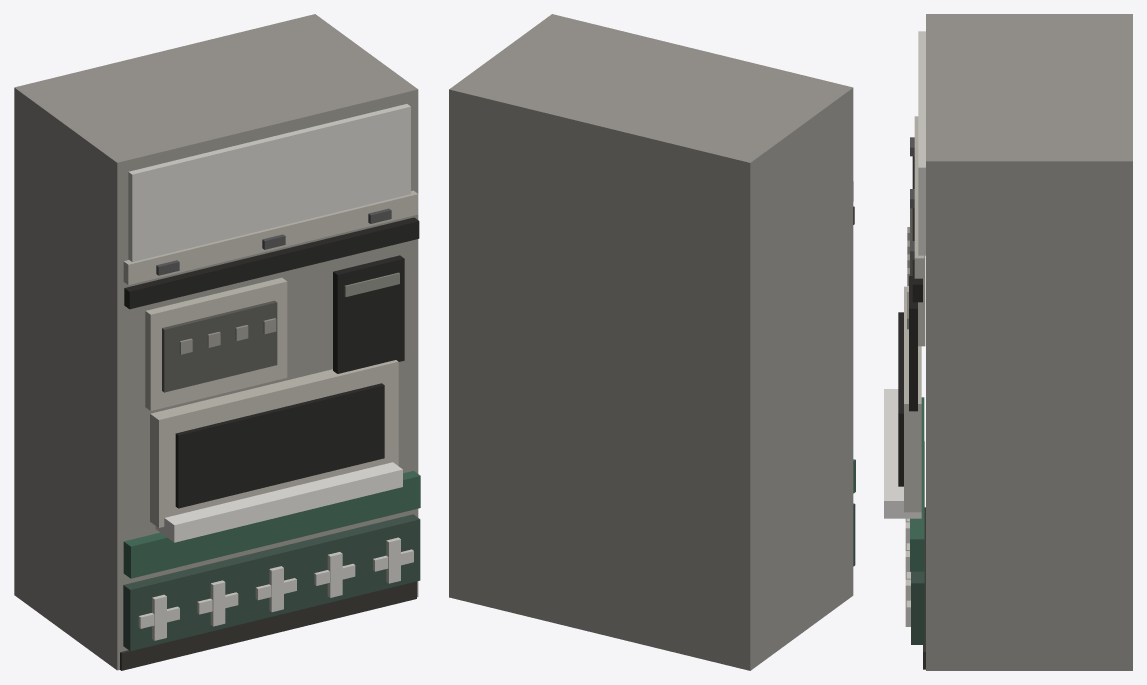
Rendered from CMU3DMedicalVendor.glb.
The picture shows the model from 3 angles, left to right: view 1: azimuth 30°, elevation 25°; view 2: azimuth 150°, elevation 25°; view 3: azimuth 270°, elevation 25°; orthographic projection.
Parts seen in each view (by area): view 1: medical cabinet body, cream header, broad dark dispense recess, dark lower cross panel, dispense frame, green lower band, left control face, left control inset, right equipment recess, header divider, dispense shelf, header lower trim (+3 smaller); view 2: medical cabinet body; view 3: medical cabinet body, dispense frame, dispense shelf, cream header, green lower band, dark lower cross panel, right equipment recess, broad dark dispense recess, header lower trim, header divider, left control face.
Part boxes in pixels (x1=…): medical cabinet body: x1=14, y1=14, x2=418, y2=670; cream header: x1=128, y1=104, x2=410, y2=261; broad dark dispense recess: x1=175, y1=383, x2=384, y2=508; dark lower cross panel: x1=123, y1=514, x2=420, y2=651; dispense frame: x1=150, y1=360, x2=398, y2=527; green lower band: x1=123, y1=471, x2=420, y2=578; left control face: x1=145, y1=277, x2=287, y2=410; left control inset: x1=162, y1=300, x2=277, y2=392; right equipment recess: x1=333, y1=255, x2=404, y2=373; header divider: x1=124, y1=217, x2=419, y2=309; dispense shelf: x1=155, y1=462, x2=402, y2=542; header lower trim: x1=123, y1=190, x2=418, y2=284; medical cabinet body: x1=449, y1=14, x2=853, y2=670; medical cabinet body: x1=926, y1=14, x2=1132, y2=670; dispense frame: x1=904, y1=286, x2=921, y2=512; dispense shelf: x1=884, y1=389, x2=921, y2=518; cream header: x1=918, y1=31, x2=925, y2=255; green lower band: x1=910, y1=397, x2=924, y2=571; dark lower cross panel: x1=911, y1=441, x2=924, y2=644; right equipment recess: x1=909, y1=276, x2=917, y2=411; broad dark dispense recess: x1=898, y1=312, x2=903, y2=486; header lower trim: x1=914, y1=116, x2=924, y2=278; header divider: x1=912, y1=156, x2=922, y2=302; left control face: x1=918, y1=255, x2=925, y2=346.
Size of the model in its own units: 1.08 by 1.74 by 0.77.
